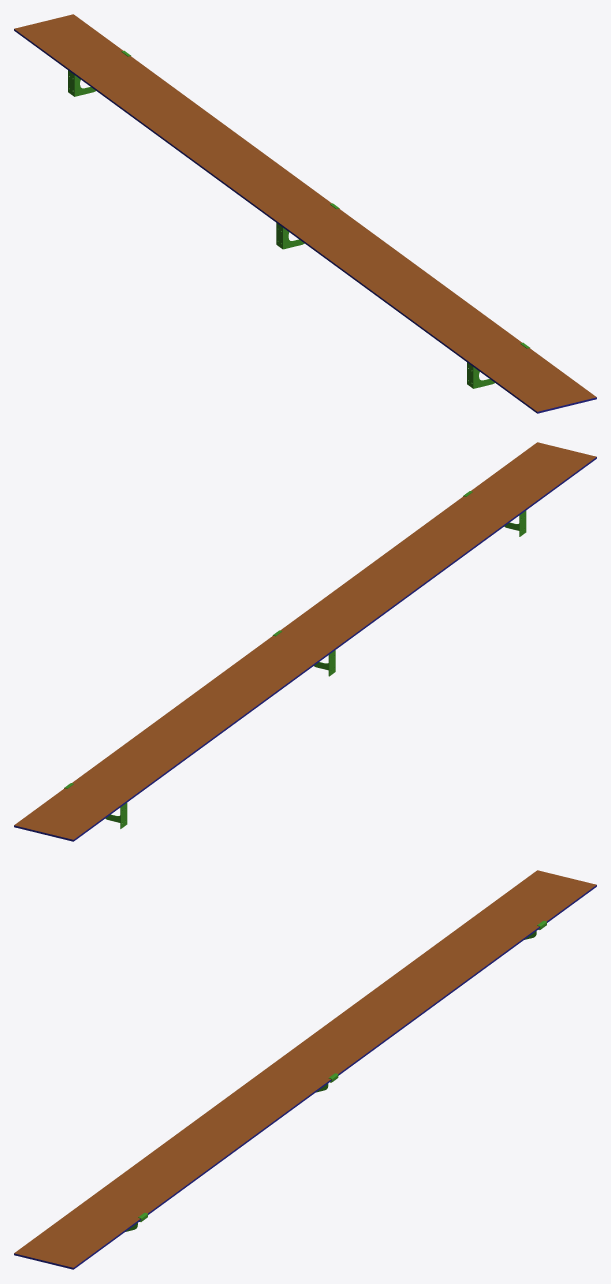
The model's file is dachueberstand_end.FBX.
3 views of the same model, one above another, from view 1: azimuth 30°, elevation 25°; view 2: azimuth 150°, elevation 25°; view 3: azimuth 330°, elevation 25° (orthographic).
Visible parts, largest first — view 1: dachueberstand_end; view 2: dachueberstand_end; view 3: dachueberstand_end.
Part boxes in pixels (x1,y1,x2,y2): dachueberstand_end: (14,14,596,413); dachueberstand_end: (14,442,596,841); dachueberstand_end: (14,870,596,1269).
Bounding box in the file's own units: 2.68 × 1.18 × 40.3.
